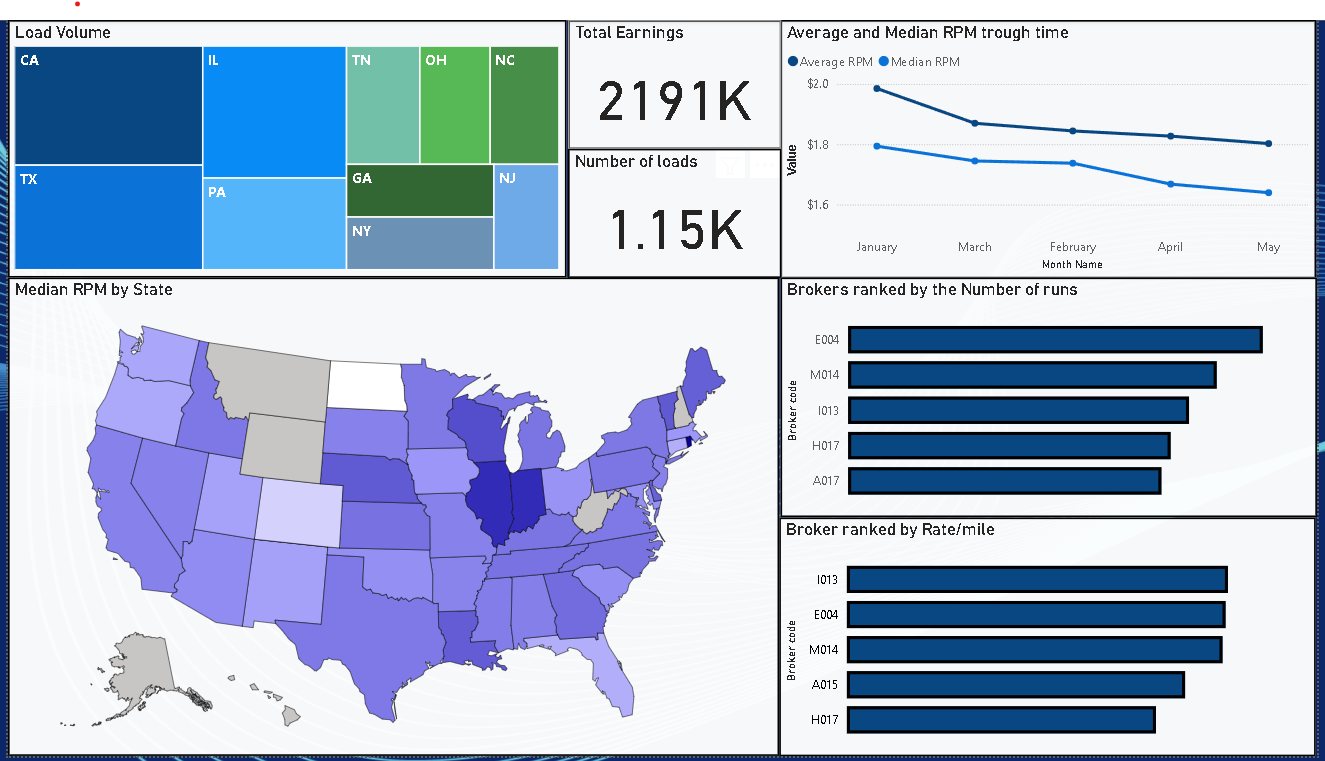

What the dashboard file says about the page in this screenshot:
{"tool":"powerbi","page":{"name":"2025","canvas":[1280,720],"ordinal":0},"visuals":[{"type":"shapeMap","title":"Median RPM by State","fields":{"Category":["Complete.Lane_Start"],"Value":["Median(Complete.Rate per Mile)"]},"box":[0,251.9,754.5,468.3],"z":0},{"type":"lineChart","title":"Average and Median RPM trough time","fields":{"Y":["Avg(Complete.Rate per Mile)","Median(Complete.Rate per Mile)"],"Category":["Complete.Month Name"]},"box":[756.2,0,523.8,252.5],"z":1000},{"type":"clusteredBarChart","title":"Broker ranked by Rate/mile","fields":{"Category":["Complete.Column1"],"Y":["Sum(Complete.Rate per Mile)"]},"box":[754.5,486.7,524.6,233.6],"z":2000},{"type":"clusteredBarChart","title":"Brokers ranked by the Number of runs","fields":{"Category":["Complete.Column1"],"Y":["CountNonNull(Complete.Rate)"]},"box":[755.7,251.9,524.6,234.8],"z":3000},{"type":"treemap","title":"Load Volume","fields":{"Group":["Complete.Lane_Start"],"Values":["CountNonNull(Complete.Rate)"]},"box":[0,0,546.6,251.9],"z":4000},{"type":"card","title":"Total Earnings","fields":{"Values":["Sum(Complete.Rate)"]},"box":[547.5,0,208.8,126.2],"z":5000},{"type":"card","title":"Number of loads","fields":{"Values":["CountNonNull(Complete.All miles)"]},"box":[547.5,126.2,208.8,126.2],"z":6000}]}

Visuals, with their boxes in screenshot pixels (x1, y1, x2, y2), scaled from the page's 1280x720 canvas onto the 1325x761 screenshot:
"Median RPM by State" shapeMap: box=[0, 266, 781, 760]
"Average and Median RPM trough time" lineChart: box=[783, 0, 1324, 267]
"Broker ranked by Rate/mile" clusteredBarChart: box=[781, 514, 1324, 760]
"Brokers ranked by the Number of runs" clusteredBarChart: box=[782, 266, 1324, 514]
"Load Volume" treemap: box=[0, 0, 566, 266]
"Total Earnings" card: box=[567, 0, 783, 133]
"Number of loads" card: box=[567, 133, 783, 267]
